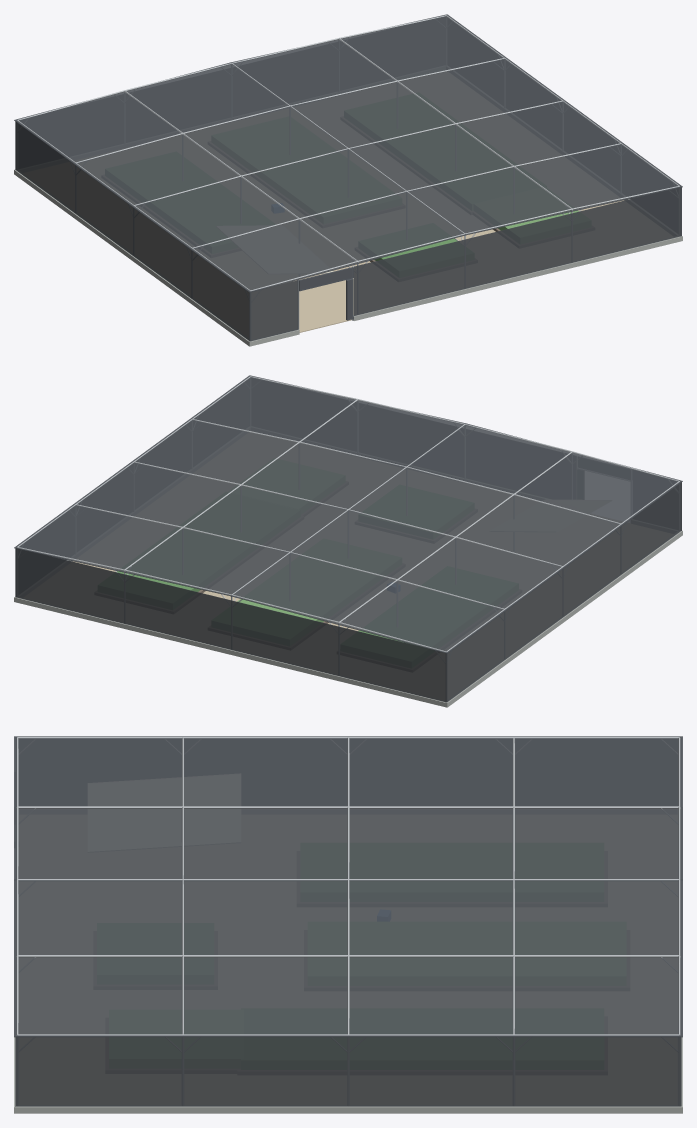
Rendered from rares_nursery_a.glb.
3 renders of one model, top to bottom at view 1: azimuth 30°, elevation 25°; view 2: azimuth 150°, elevation 25°; view 3: azimuth 270°, elevation 25°, orthographic. The views are drawn at different scales.
Parts seen in each view (by area): view 1: Net_Roof_L, Net_Roof_R, Net_Front_R, Net_Wall_Left, Net_Front_L, GroundSheet, Curb_Front_Right, Curb_Left, Net_Front_Header, BeamY_1, BeamY_3; view 2: Net_Roof_L, Net_Roof_R, Net_Wall_Rear, Net_Wall_Left, Curb_Rear, Curb_Left, BeamY_1, BeamY_3; view 3: Net_Roof_R, Net_Roof_L, Net_Wall_Right, Curb_Right, BeamY_1, BeamY_3, BeamY_4, BeamY_2, BeamY_0.
Boxes of the visible parts, left/top/right/bottom form: Net_Roof_L: left=14, top=62, right=465, bottom=292; Net_Roof_R: left=231, top=14, right=682, bottom=235; Net_Front_R: left=354, top=187, right=681, bottom=315; Net_Wall_Left: left=15, top=121, right=249, bottom=340; Net_Front_L: left=249, top=280, right=298, bottom=341; GroundSheet: left=293, top=200, right=623, bottom=332; Curb_Front_Right: left=353, top=236, right=682, bottom=320; Curb_Left: left=14, top=169, right=249, bottom=346; Net_Front_Header: left=299, top=267, right=353, bottom=291; BeamY_1: left=124, top=90, right=357, bottom=261; BeamY_3: left=339, top=38, right=571, bottom=208; Net_Roof_L: left=231, top=423, right=682, bottom=653; Net_Roof_R: left=14, top=375, right=465, bottom=596; Net_Wall_Rear: left=15, top=548, right=446, bottom=702; Net_Wall_Left: left=447, top=482, right=681, bottom=702; Curb_Rear: left=14, top=597, right=447, bottom=707; Curb_Left: left=444, top=531, right=682, bottom=707; BeamY_1: left=339, top=451, right=572, bottom=622; BeamY_3: left=125, top=399, right=357, bottom=569; Net_Roof_R: left=14, top=879, right=682, bottom=1037; Net_Roof_L: left=14, top=736, right=682, bottom=879; Net_Wall_Right: left=16, top=1036, right=681, bottom=1106; Curb_Right: left=14, top=1105, right=682, bottom=1113; BeamY_1: left=18, top=806, right=678, bottom=808; BeamY_3: left=18, top=955, right=678, bottom=957; BeamY_4: left=17, top=1034, right=679, bottom=1035; BeamY_2: left=17, top=879, right=679, bottom=880; BeamY_0: left=18, top=737, right=678, bottom=738.
Size of the model in its own units: 23.95 by 3.13 by 22.55.
